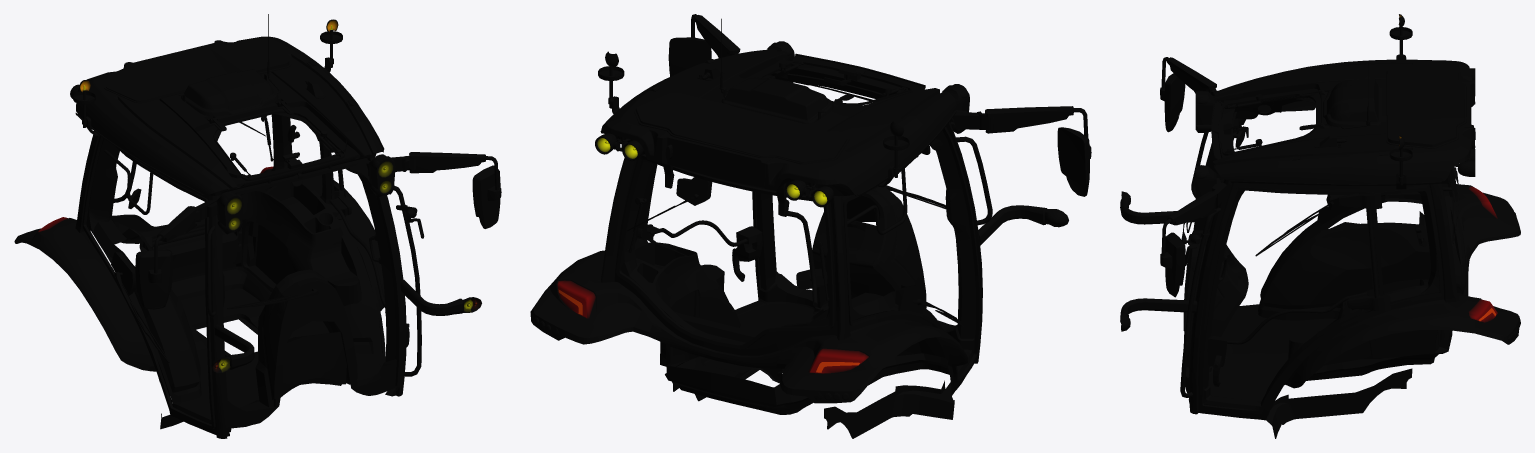
File: N_cabin.fbx
The picture shows the model from 3 angles, left to right: view 1: azimuth 30°, elevation 25°; view 2: azimuth 150°, elevation 25°; view 3: azimuth 270°, elevation 25°; orthographic projection. The views are drawn at different scales.
Visible parts, largest first — view 1: N_cabin; view 2: N_cabin; view 3: N_cabin.
Boxes of the visible parts, <box> form: N_cabin: <box>14,14,501,438</box>; N_cabin: <box>530,14,1091,438</box>; N_cabin: <box>1120,14,1520,438</box>.
Size of the model in its own units: 257 by 234 by 244.
